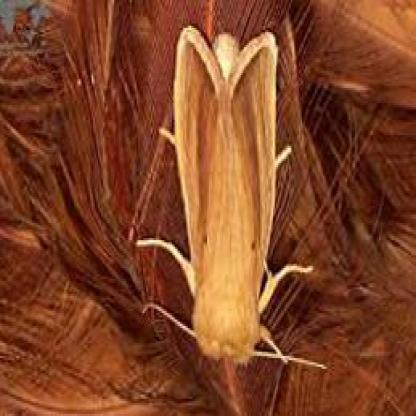stem-borer: (164, 22, 282, 370)
